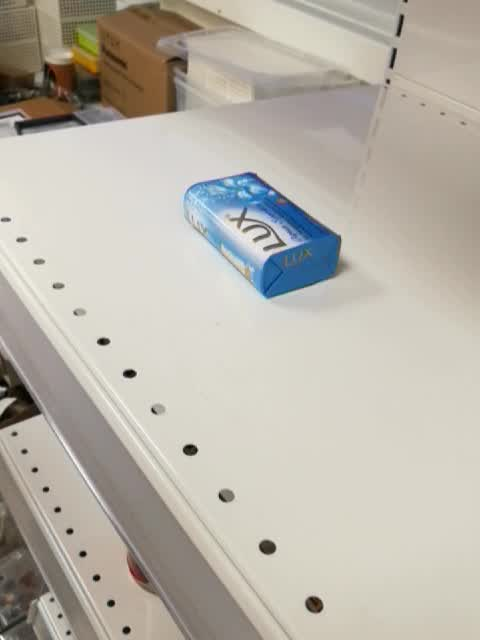soap: (182, 172, 342, 302)
